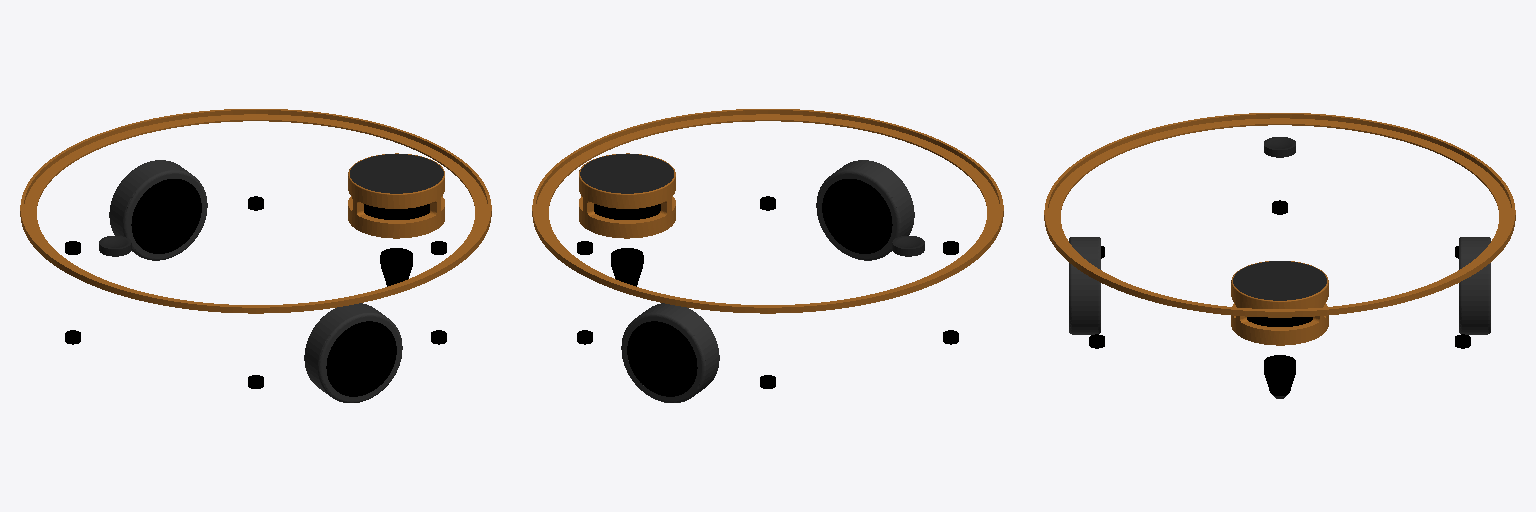
robot.urdf — vacuum_robot:
?<?xml version="1.0" encoding="utf-8"?>
<robot name="vacuum_robot">

  <!-- Materials -->
  <material name="casing">
    <color rgba="0.1792 0.1792 0.1792 1" />
  </material>
  <material name="gold">
    <color rgba="0.6784 0.4344 0.1764 1" />
  </material>
  <material name="matt_plastic">
    <color rgba="0 0 0 1" />
  </material>
  <material name="led">
    <color rgba="0.1792 1 0 1" />
  </material>
  <material name="rubber">
    <color rgba="0.2358 0.2358 0.2358 1" />
  </material>

  <!-- Links -->
  <link name="base_link" />
  <link name="base">
    <inertial>
      <origin rpy="0 0 0" xyz="0 0 0.05" />
      <mass value="2.9" />
      <inertia ixx="0.0058840261772275" ixy="0" ixz="0" iyy="0.0058840261772275" iyz="0" izz="0.0111680533736944" />
    </inertial>
    <visual name="base">
      <origin rpy="0 0 -1.570796" xyz="0 0 0.02" />
      <geometry>
        <mesh filename="package://vacuum_robot/meshes/base.obj" scale="0.001 0.001 0.001" />
      </geometry>
      <material name="casing"/>
    </visual>
    <visual name="base_ring">
      <origin rpy="0 0 0" xyz="0 0 0.076" />
      <geometry>
        <mesh filename="package://vacuum_robot/meshes/base_ring.obj" scale="0.001 0.001 0.001" />
      </geometry>
      <material name="gold"/>
    </visual>
    <collision>
      <origin xyz="0 0 0.05" />
      <geometry>
        <cylinder length="0.06" radius="0.15" />
      </geometry>
    </collision>
  </link>
  <link name="status_led">
    <inertial>
      <origin rpy="0 0 0" xyz="0 0 0.0025" />
      <mass value="0.01" />
      <inertia ixx="8.28780866868328E-06" ixy="0" ixz="0" iyy="8.28780866868328E-06" iyz="0" izz="1.24089465316501E-05" />
    </inertial>
    <visual>
      <origin rpy="0 0 0" />
      <geometry>
        <mesh filename="package://vacuum_robot/meshes/status_led.obj" scale="0.001 0.001 0.001" />
      </geometry>
      <material name="led"/>
    </visual>
    <collision>
      <origin xyz="0 0 0.0025" />
      <geometry>
        <cylinder length="0.005" radius="0.005" />
      </geometry>
    </collision>
  </link>
  <link name="power_button">
    <inertial>
      <origin rpy="0 0 0" xyz="0 0 0.0025" />
      <mass value="0.01" />
      <inertia ixx="2.69012289209059E-05" ixy="0" ixz="0" iyy="2.69012289209059E-05" iyz="0" izz="4.96357861266006E-05" />
    </inertial>
    <visual>
      <geometry>
        <mesh filename="package://vacuum_robot/meshes/power_button.obj" scale="0.001 0.001 0.001" />
      </geometry>
      <material name="casing"/>
    </visual>
    <collision>
      <origin xyz="0 0 0.0025" />
      <geometry>
        <cylinder length="0.005" radius="0.01" />
      </geometry>
    </collision>
  </link>
  <link name="left_wheel">
    <inertial>
      <origin rpy="0 0 0" xyz="0 0 0" />
      <mass value="0.3" />
      <inertia ixx="0.000256694474956021" ixy="0" ixz="0" iyy="0.000446722202468663" iyz="0" izz="0.000256694358540699" />
    </inertial>
    <visual name="wheel">
      <origin rpy="1.570796 0 0" xyz="0 0.01 0" />
      <geometry>
        <mesh filename="package://vacuum_robot/meshes/wheel.obj" scale="0.001 0.001 0.001" />
      </geometry>
      <material name="matt_plastic"/>
    </visual>
    <visual name="tire">
      <origin rpy="1.570796 0 0" xyz="0 0.01 0" />
      <geometry>
        <mesh filename="package://vacuum_robot/meshes/tire.obj" scale="0.001 0.001 0.001" />
      </geometry>
      <material name="rubber"/>
    </visual>
    <collision>
      <origin rpy="1.570796 0 0" />
      <geometry>
        <cylinder length="0.02" radius="0.03" />
      </geometry>
    </collision>
  </link>
  <link name="right_wheel">
    <inertial>
      <origin rpy="0 0 0" xyz="0 0 0" />
      <mass value="0.3" />
      <inertia ixx="0.000256694474956021" ixy="0" ixz="0" iyy="0.000446722202468663" iyz="0" izz="0.000256694358540699" />
    </inertial>
    <visual name="wheel">
      <origin rpy="1.570796 0 0" xyz="0 0.01 0" />
      <geometry>
        <mesh filename="package://vacuum_robot/meshes/wheel.obj" scale="0.001 0.001 0.001" />
      </geometry>
      <material name="matt_plastic"/>
    </visual>
    <visual name="tire">
      <origin rpy="1.570796 0 0" xyz="0 0.01 0" />
      <geometry>
        <mesh filename="package://vacuum_robot/meshes/tire.obj" scale="0.001 0.001 0.001" />
      </geometry>
      <material name="rubber"/>
    </visual>
    <collision>
      <origin rpy="1.570796 0 0" />
      <geometry>
        <cylinder length="0.02" radius="0.03" />
      </geometry>
    </collision>
  </link>
  <link name="bearing_support_wheel">
    <inertial>
      <origin rpy="0 0 0" xyz="0 0 -0.0105" />
      <mass value="0.1" />
      <inertia ixx="6.15678873145953E-05" ixy="0" ixz="0" iyy="6.15678873145953E-05" iyz="0" izz="4.96357824886218E-05" />
    </inertial>
    <visual>
      <origin rpy="0 0 0" />
      <geometry>
        <mesh filename="package://vacuum_robot/meshes/bearing_support_wheel.obj" scale="0.001 0.001 0.001" />
      </geometry>
      <material name="matt_plastic"/>
    </visual>
    <collision>
      <origin xyz="0 0 -0.0105" />
      <geometry>
        <cylinder length="0.021" radius="0.01" />
      </geometry>
    </collision>
  </link>
  <link name="support_wheel">
    <inertial>
      <origin rpy="0 0 0" xyz="0 0 0" />
      <mass value="0.01" />
      <inertia ixx="1.00000006568735E-05" ixy="0" ixz="0" iyy="1.00000006568735E-05" iyz="0" izz="1.00000006568735E-05" />
    </inertial>
    <visual>
      <geometry>
        <mesh filename="package://vacuum_robot/meshes/support_wheel.obj" scale="0.001 0.001 0.001" />
      </geometry>
      <material name="rubber"/>
    </visual>
    <collision>
      <geometry>
        <sphere radius="0.005" />
      </geometry>
    </collision>
  </link>
  <link name="lidar_casing">
    <inertial>
      <origin rpy="0 0 0" xyz="0 0 0.015" />
      <mass value="0.15" />
      <inertia ixx="0.000298361119348556" ixy="0" ixz="0" iyy="0.000298361119348556" iyz="0" izz="0.000446722115157172" />
    </inertial>
    <visual name="lidar_casing_side">
      <origin rpy="0 0 0.44" />
      <geometry>
        <mesh filename="package://vacuum_robot/meshes/lidar_casing_side.obj" scale="0.001 0.001 0.001" />
      </geometry>
      <material name="gold"/>
    </visual>
    <visual name="lidar_casing_top">
      <origin xyz="0 0 0.029" />
      <geometry>
        <mesh filename="package://vacuum_robot/meshes/lidar_casing_top.obj" scale="0.001 0.001 0.001" />
      </geometry>
      <material name="casing"/>
    </visual>
    <collision>
      <origin xyz="0 0 0.015" />
      <geometry>
        <cylinder length="0.03" radius="0.03" />
      </geometry>
    </collision>
  </link>
  <link name="lidar">
    <inertial>
      <origin rpy="0 0 0" xyz="0 0 0" />
      <mass value="0.05" />
      <inertia ixx="0.000176284447661601" ixy="0" ixz="0" iyy="0.000176284447661601" iyz="0" izz="0.000285902176983655" />
    </inertial>
    <visual>
      <origin rpy="0 0 1.570796" xyz="0 0 -0.01" />
      <geometry>
        <mesh filename="package://vacuum_robot/meshes/lidar.obj" scale="0.001 0.001 0.001" />
      </geometry>
      <material name="matt_plastic"/>
    </visual>
    <collision>
      <geometry>
        <cylinder length="0.02" radius="0.024" />
      </geometry>
    </collision>
  </link>
  <link name="ir_sensor_front">
    <inertial>
      <origin rpy="0 0 0" xyz="0 0 0.0025" />
      <mass value="0.01" />
      <inertia ixx="8.28780866868328E-06" ixy="0" ixz="0" iyy="8.28780866868328E-06" iyz="0" izz="1.24089465316501E-05" />
    </inertial>
    <visual>
      <geometry>
        <mesh filename="package://vacuum_robot/meshes/ir_sensor.obj" scale="0.001 0.001 0.001" />
      </geometry>
      <material name="matt_plastic"/>
    </visual>
    <collision>
      <origin xyz="0 0 0.0025" />
      <geometry>
        <cylinder length="0.005" radius="0.005" />
      </geometry>
    </collision>
  </link>
  <link name="ir_sensor_front_left">
    <inertial>
      <origin rpy="0 0 0" xyz="0 0 0.0025" />
      <mass value="0.01" />
      <inertia ixx="8.28780866868328E-06" ixy="0" ixz="0" iyy="8.28780866868328E-06" iyz="0" izz="1.24089465316501E-05" />
    </inertial>
    <visual>
      <geometry>
        <mesh filename="package://vacuum_robot/meshes/ir_sensor.obj" scale="0.001 0.001 0.001" />
      </geometry>
      <material name="matt_plastic"/>
    </visual>
    <collision>
      <origin xyz="0 0 0.0025" />
      <geometry>
        <cylinder length="0.005" radius="0.005" />
      </geometry>
    </collision>
  </link>
  <link name="ir_sensor_front_right">
    <inertial>
      <origin rpy="0 0 0" xyz="0 0 0.0025" />
      <mass value="0.01" />
      <inertia ixx="8.28780866868328E-06" ixy="0" ixz="0" iyy="8.28780866868328E-06" iyz="0" izz="1.24089465316501E-05" />
    </inertial>
    <visual>
      <geometry>
        <mesh filename="package://vacuum_robot/meshes/ir_sensor.obj" scale="0.001 0.001 0.001" />
      </geometry>
      <material name="matt_plastic"/>
    </visual>
    <collision>
      <origin xyz="0 0 0.0025" />
      <geometry>
        <cylinder length="0.005" radius="0.005" />
      </geometry>
    </collision>
  </link>
  <link name="ir_sensor_back">
    <inertial>
      <origin rpy="0 0 0" xyz="0 0 0.0025" />
      <mass value="0.01" />
      <inertia ixx="8.28780866868328E-06" ixy="0" ixz="0" iyy="8.28780866868328E-06" iyz="0" izz="1.24089465316501E-05" />
    </inertial>
    <visual>
      <geometry>
        <mesh filename="package://vacuum_robot/meshes/ir_sensor.obj" scale="0.001 0.001 0.001" />
      </geometry>
      <material name="matt_plastic"/>
    </visual>
    <collision>
      <origin xyz="0 0 0.0025" />
      <geometry>
        <cylinder length="0.005" radius="0.005" />
      </geometry>
    </collision>
  </link>
  <link name="ir_sensor_back_left">
    <inertial>
      <origin rpy="0 0 0" xyz="0 0 0.0025" />
      <mass value="0.01" />
      <inertia ixx="8.28780866868328E-06" ixy="0" ixz="0" iyy="8.28780866868328E-06" iyz="0" izz="1.24089465316501E-05" />
    </inertial>
    <visual>
      <geometry>
        <mesh filename="package://vacuum_robot/meshes/ir_sensor.obj" scale="0.001 0.001 0.001" />
      </geometry>
      <material name="matt_plastic"/>
    </visual>
    <collision>
      <origin xyz="0 0 0.0025" />
      <geometry>
        <cylinder length="0.005" radius="0.005" />
      </geometry>
    </collision>
  </link>
  <link name="ir_sensor_back_right">
    <inertial>
      <origin rpy="0 0 0" xyz="0 0 0.0025" />
      <mass value="0.01" />
      <inertia ixx="8.28780866868328E-06" ixy="0" ixz="0" iyy="8.28780866868328E-06" iyz="0" izz="1.24089465316501E-05" />
    </inertial>
    <visual>
      <geometry>
        <mesh filename="package://vacuum_robot/meshes/ir_sensor.obj" scale="0.001 0.001 0.001" />
      </geometry>
      <material name="matt_plastic"/>
    </visual>
    <collision>
      <origin xyz="0 0 0.0025" />
      <geometry>
        <cylinder length="0.005" radius="0.005" />
      </geometry>
    </collision>
  </link>

  <!--Disable_Collisions -->
  <disable_collision link1="base" link2="lidar"/>

  <!-- Joints -->
  <joint name="base_link_base_joint" type="fixed">
    <parent link="base_link"/>
     <child link="base"/>
  </joint>
  <joint name="base_status_led_joint" type="fixed">
    <origin xyz="0 0 0.075" />
    <parent link="base" />
    <child link="status_led" />
  </joint>
  <joint name="base_power_button_joint" type="fixed">
    <origin xyz="-0.1 0 0.075" />
    <parent link="base" />
    <child link="power_button" />
  </joint>
  <joint name="base_left_wheel_joint" type="continuous">
    <origin xyz="0 0.12 0.03" />
    <parent link="base" />
    <child link="left_wheel" />
    <axis xyz="0 1 0" />
    <dynamics damping="0.05" friction="0.05" />
  </joint>
  <joint name="base_right_wheel_joint" type="continuous">
    <origin xyz="0 -0.12 0.03" />
    <parent link="base" />
    <child link="right_wheel" />
    <axis xyz="0 1 0" />
    <dynamics damping="0.05" friction="0.05" />
  </joint>
  <joint name="base_bearing_support_wheel_joint" type="fixed">
    <origin xyz="0.1 0 0.025" />
    <parent link="base" />
    <child link="bearing_support_wheel" />
  </joint>
  <joint name="bearing_support_wheel_support_wheel_joint" type="fixed">
    <origin xyz="0 0 -0.02" />
    <parent link="bearing_support_wheel" />
    <child link="support_wheel" />
  </joint>
  <joint name="base_lidar_casing_joint" type="prismatic">
    <origin xyz="0.1 0 0.05" />
    <parent link="base" />
    <child link="lidar_casing" />
    <axis xyz="0 0 1" />
    <dynamics damping="0.05" friction="0.05" />
    <limit lower="0" upper="0.02" effort="3.40282346638529E+38" velocity="100" />
  </joint>
  <joint name="lidar_casing_lidar_joint" type="continuous">
    <origin xyz="0 0 0.015" />
    <parent link="lidar_casing" />
    <child link="lidar" />
    <axis xyz="0 0 1" />
    <dynamics damping="0.05" friction="0.05" />
  </joint>
  <joint name="base_ir_sensor_front_joint" type="fixed">
    <origin xyz="0.13 0 0.02" />
    <parent link="base" />
    <child link="ir_sensor_front" />
  </joint>
  <joint name="base_ir_sensor_front_left_joint" type="fixed">
    <origin xyz="0.065 0.112583 0.02" />
    <parent link="base" />
    <child link="ir_sensor_front_left" />
  </joint>
  <joint name="base_ir_sensor_front_right_joint" type="fixed">
    <origin xyz="0.065 -0.112583 0.02" />
    <parent link="base" />
    <child link="ir_sensor_front_right" />
  </joint>
  <joint name="base_ir_sensor_back_joint" type="fixed">
    <origin xyz="-0.13 0 0.02" />
    <parent link="base" />
    <child link="ir_sensor_back" />
  </joint>
  <joint name="base_ir_sensor_back_left_joint" type="fixed">
    <origin xyz="-0.065 0.112583 0.02" />
    <parent link="base" />
    <child link="ir_sensor_back_left" />
  </joint>
  <joint name="base_ir_sensor_back_right_joint" type="fixed">
    <origin xyz="-0.065 -0.112583 0.02" />
    <parent link="base" />
    <child link="ir_sensor_back_right" />
  </joint>
</robot>

--- Render facts (derived) ---
Views: 3 orthographic renders of the robot side by side, from view 1: azimuth 30°, elevation 25°; view 2: azimuth 150°, elevation 25°; view 3: azimuth 270°, elevation 25°.
Robot: vacuum_robot — 16 links, 15 joints (3 continuous, 1 prismatic, 11 fixed); root link base_link; default pose: all joints at 0.
Visible links, largest first — view 1: base, right_wheel, left_wheel, lidar_casing, bearing_support_wheel, lidar, power_button; view 2: base, left_wheel, right_wheel, lidar_casing, bearing_support_wheel, lidar, power_button; view 3: base, lidar_casing, left_wheel, right_wheel, bearing_support_wheel, power_button.
Link boxes in pixels (x1,y1,x2,y2): base: (20, 109, 491, 313); right_wheel: (304, 303, 402, 402); left_wheel: (109, 160, 207, 260); lidar_casing: (348, 153, 444, 238); bearing_support_wheel: (380, 248, 412, 286); lidar: (364, 204, 429, 219); power_button: (99, 236, 131, 256); base: (532, 109, 1003, 313); left_wheel: (621, 303, 719, 402); right_wheel: (816, 160, 914, 260); lidar_casing: (579, 153, 675, 238); bearing_support_wheel: (611, 248, 643, 286); lidar: (594, 204, 660, 219); power_button: (892, 236, 924, 256); base: (1044, 113, 1515, 317); lidar_casing: (1231, 261, 1328, 345); left_wheel: (1459, 237, 1490, 334); right_wheel: (1069, 237, 1100, 334); bearing_support_wheel: (1264, 355, 1295, 395); power_button: (1264, 137, 1295, 157).
Size in the robot's own frame: 0.29 by 0.2899 by 0.08 metres.
Meshes: 12 distinct files referenced, 17 mesh visuals loaded (10 OBJ); not drawn: 2 (reference not matched to a file when rendering).
